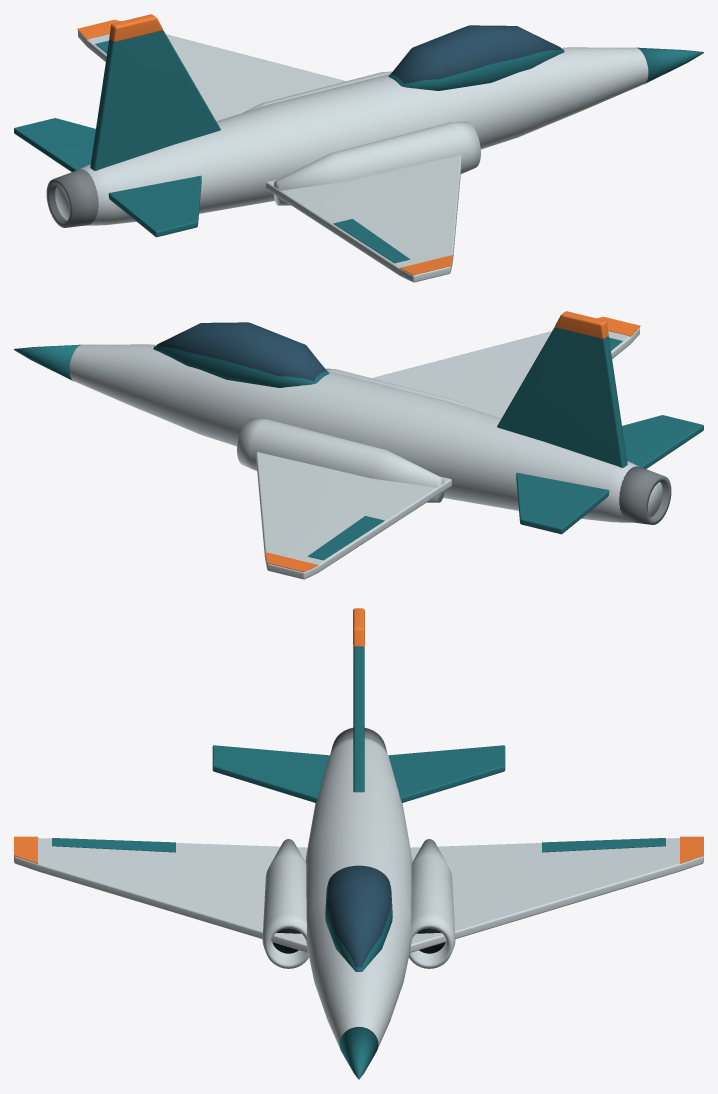
File: generic_jet.glb
3 renders of one model, top to bottom at view 1: azimuth 30°, elevation 25°; view 2: azimuth 150°, elevation 25°; view 3: azimuth 270°, elevation 25°, orthographic. The views are drawn at different scales.
Visible parts, largest first — view 1: Fuselage, Wing_left, Vertical stabilizer, Wing_right, Intake fairing_left, Cockpit canopy, Horizontal stabilizer_left, Horizontal stabilizer_right, Canopy surround, Exhaust nozzle, Nose radome, Aileron marking_left (+4 smaller); view 2: Fuselage, Wing_right, Vertical stabilizer, Wing_left, Intake fairing_right, Cockpit canopy, Horizontal stabilizer_right, Horizontal stabilizer_left, Canopy surround, Exhaust nozzle, Nose radome, Aileron marking_right (+4 smaller); view 3: Fuselage, Wing_left, Wing_right, Cockpit canopy, Horizontal stabilizer_right, Horizontal stabilizer_left, Intake fairing_left, Intake fairing_right, Vertical stabilizer, Nose radome, Aileron marking_left, Aileron marking_right (+1 smaller).
Boxes of the visible parts, bbox=[...] form: Fuselage: bbox=[55, 47, 648, 225]; Wing_left: bbox=[265, 155, 461, 282]; Vertical stabilizer: bbox=[90, 30, 220, 170]; Wing_right: bbox=[78, 30, 345, 121]; Intake fairing_left: bbox=[273, 121, 480, 205]; Cockpit canopy: bbox=[391, 25, 561, 83]; Horizontal stabilizer_left: bbox=[108, 175, 201, 237]; Horizontal stabilizer_right: bbox=[14, 118, 95, 171]; Canopy surround: bbox=[388, 49, 564, 90]; Exhaust nozzle: bbox=[46, 169, 98, 227]; Nose radome: bbox=[636, 47, 703, 83]; Aileron marking_left: bbox=[333, 219, 409, 263]; Fuselage: bbox=[69, 344, 662, 522]; Wing_right: bbox=[256, 452, 452, 579]; Vertical stabilizer: bbox=[497, 327, 627, 467]; Wing_left: bbox=[372, 327, 639, 418]; Intake fairing_right: bbox=[237, 418, 444, 502]; Cockpit canopy: bbox=[156, 322, 326, 380]; Horizontal stabilizer_right: bbox=[516, 472, 609, 534]; Horizontal stabilizer_left: bbox=[622, 415, 703, 468]; Canopy surround: bbox=[153, 346, 329, 387]; Exhaust nozzle: bbox=[619, 466, 671, 524]; Nose radome: bbox=[14, 344, 81, 380]; Aileron marking_right: bbox=[308, 516, 384, 560]; Fuselage: bbox=[305, 738, 412, 1047]; Wing_left: bbox=[14, 838, 307, 952]; Wing_right: bbox=[410, 838, 703, 952]; Cockpit canopy: bbox=[326, 865, 391, 967]; Horizontal stabilizer_right: bbox=[388, 745, 505, 802]; Horizontal stabilizer_left: bbox=[212, 745, 329, 802]; Intake fairing_left: bbox=[262, 839, 308, 968]; Intake fairing_right: bbox=[409, 839, 455, 968]; Vertical stabilizer: bbox=[353, 646, 364, 792]; Nose radome: bbox=[339, 1027, 378, 1079]; Aileron marking_left: bbox=[52, 838, 175, 852]; Aileron marking_right: bbox=[542, 838, 665, 852].
Size of the model in its own units: 11.06 by 3.46 by 10.
